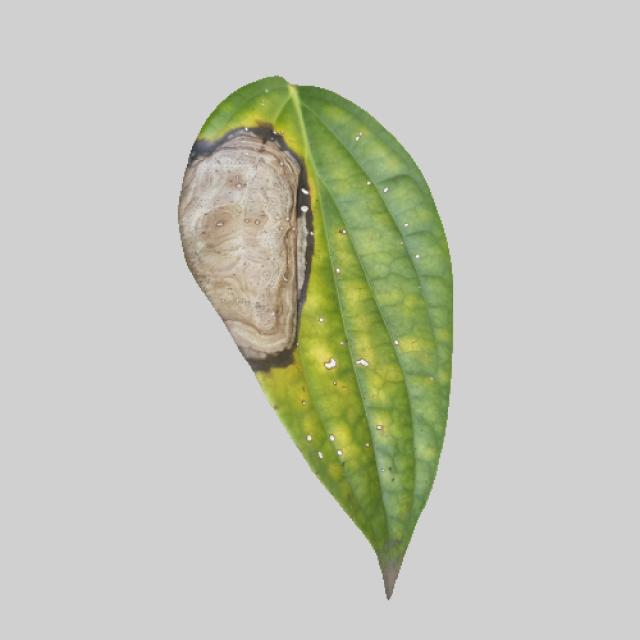leaf-blight: (158, 82, 458, 600)
